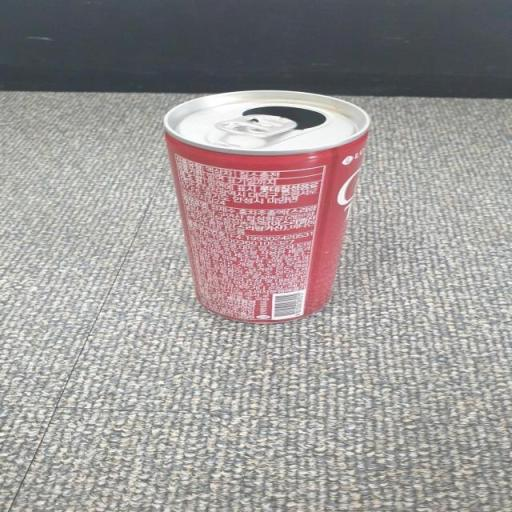metal: (154, 85, 402, 342)
